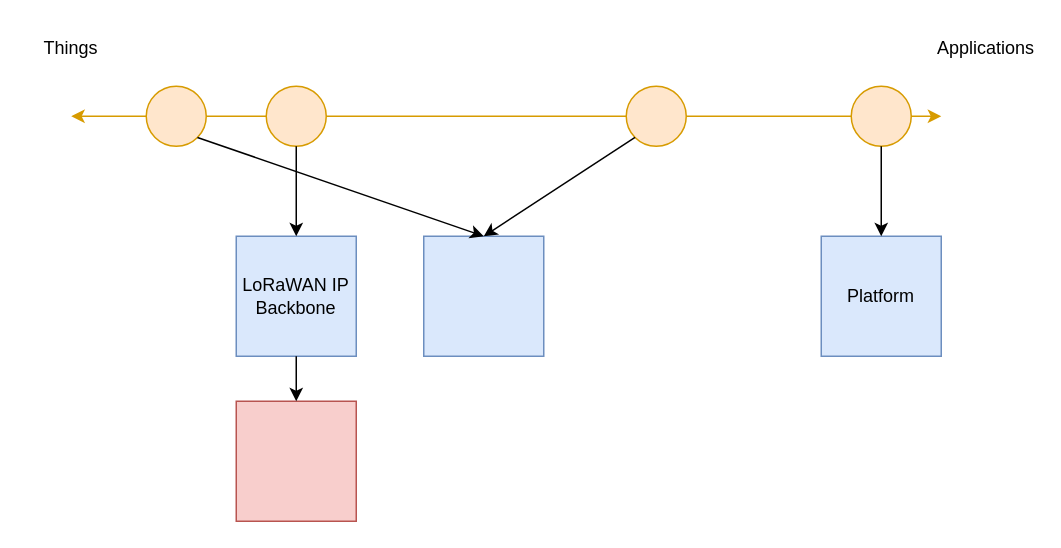
The diagram is 1061 pixels wide and 548 high, and some of its shapes have lost their labels. The box of each missing label's shape, as (x1, y1, x2, y2) in pixels:
NATS / MQTT: (422, 235, 544, 356)
Simulation: (235, 400, 356, 521)
